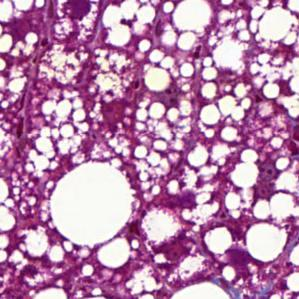steatosis: (44, 160, 141, 247)
